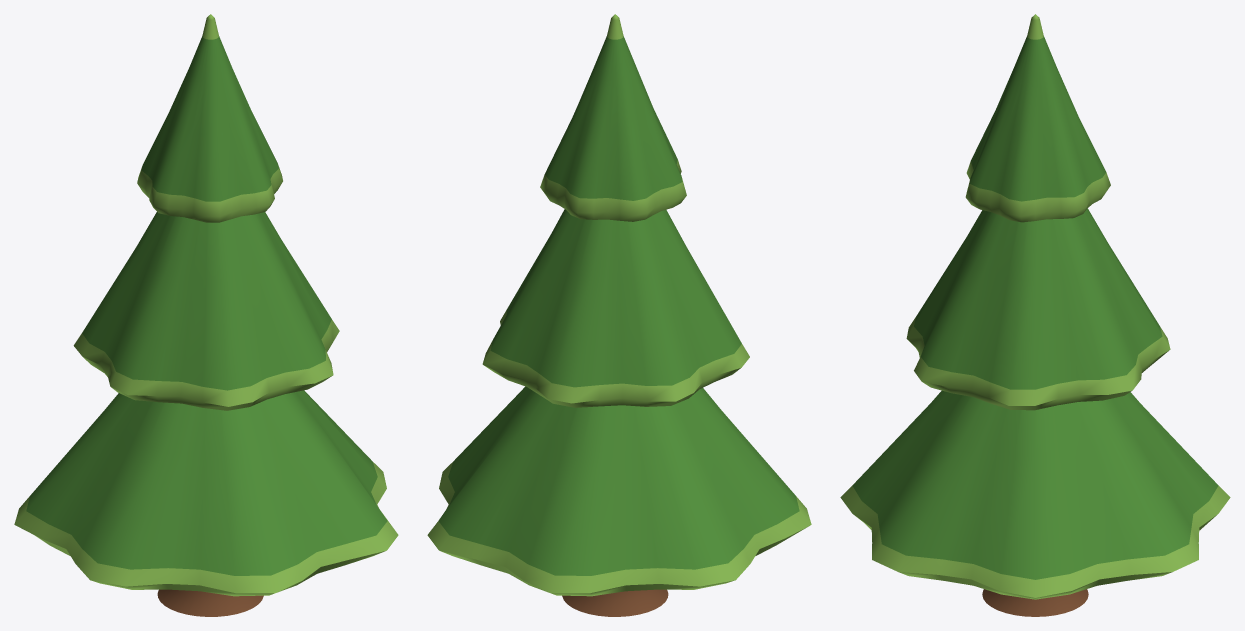
The model's file is PineTree_14.glb.
3 views of the same model, side by side, from view 1: azimuth 30°, elevation 25°; view 2: azimuth 150°, elevation 25°; view 3: azimuth 270°, elevation 25° (orthographic).
Parts seen in each view (by area): view 1: PineTree_14; view 2: PineTree_14; view 3: PineTree_14.
Boxes of the visible parts, bbox=[...] form: PineTree_14: bbox=[14, 14, 398, 616]; PineTree_14: bbox=[427, 14, 811, 616]; PineTree_14: bbox=[840, 14, 1230, 616].
Bounding box in the file's own units: 4.83 × 8.1 × 4.93.
